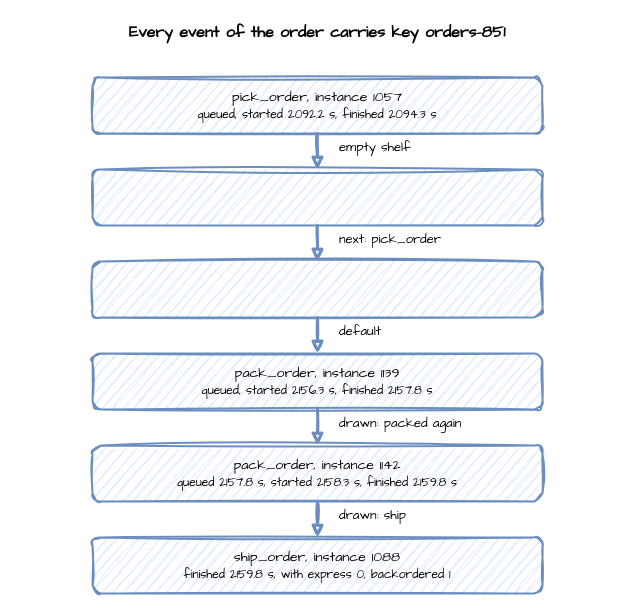
The diagram is 634 pixels wide and 611 high, and some of its shapes have lost their labels. The box of each missing label's shape, as (x1, y1, x2, y2) in pixels:
backorder, instance 0 started 2094.3 s, finished 2154.3 s: (91, 168, 543, 226)
pick_order, instance 1092 queued, started 2154.3 s, finished 2156.3 s: (91, 260, 543, 318)
